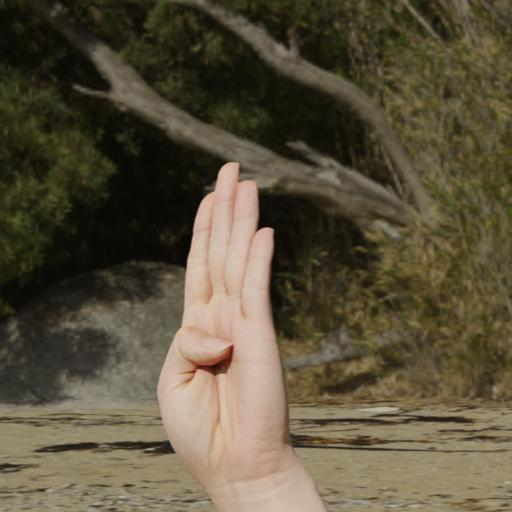B: (139, 156, 300, 512)
